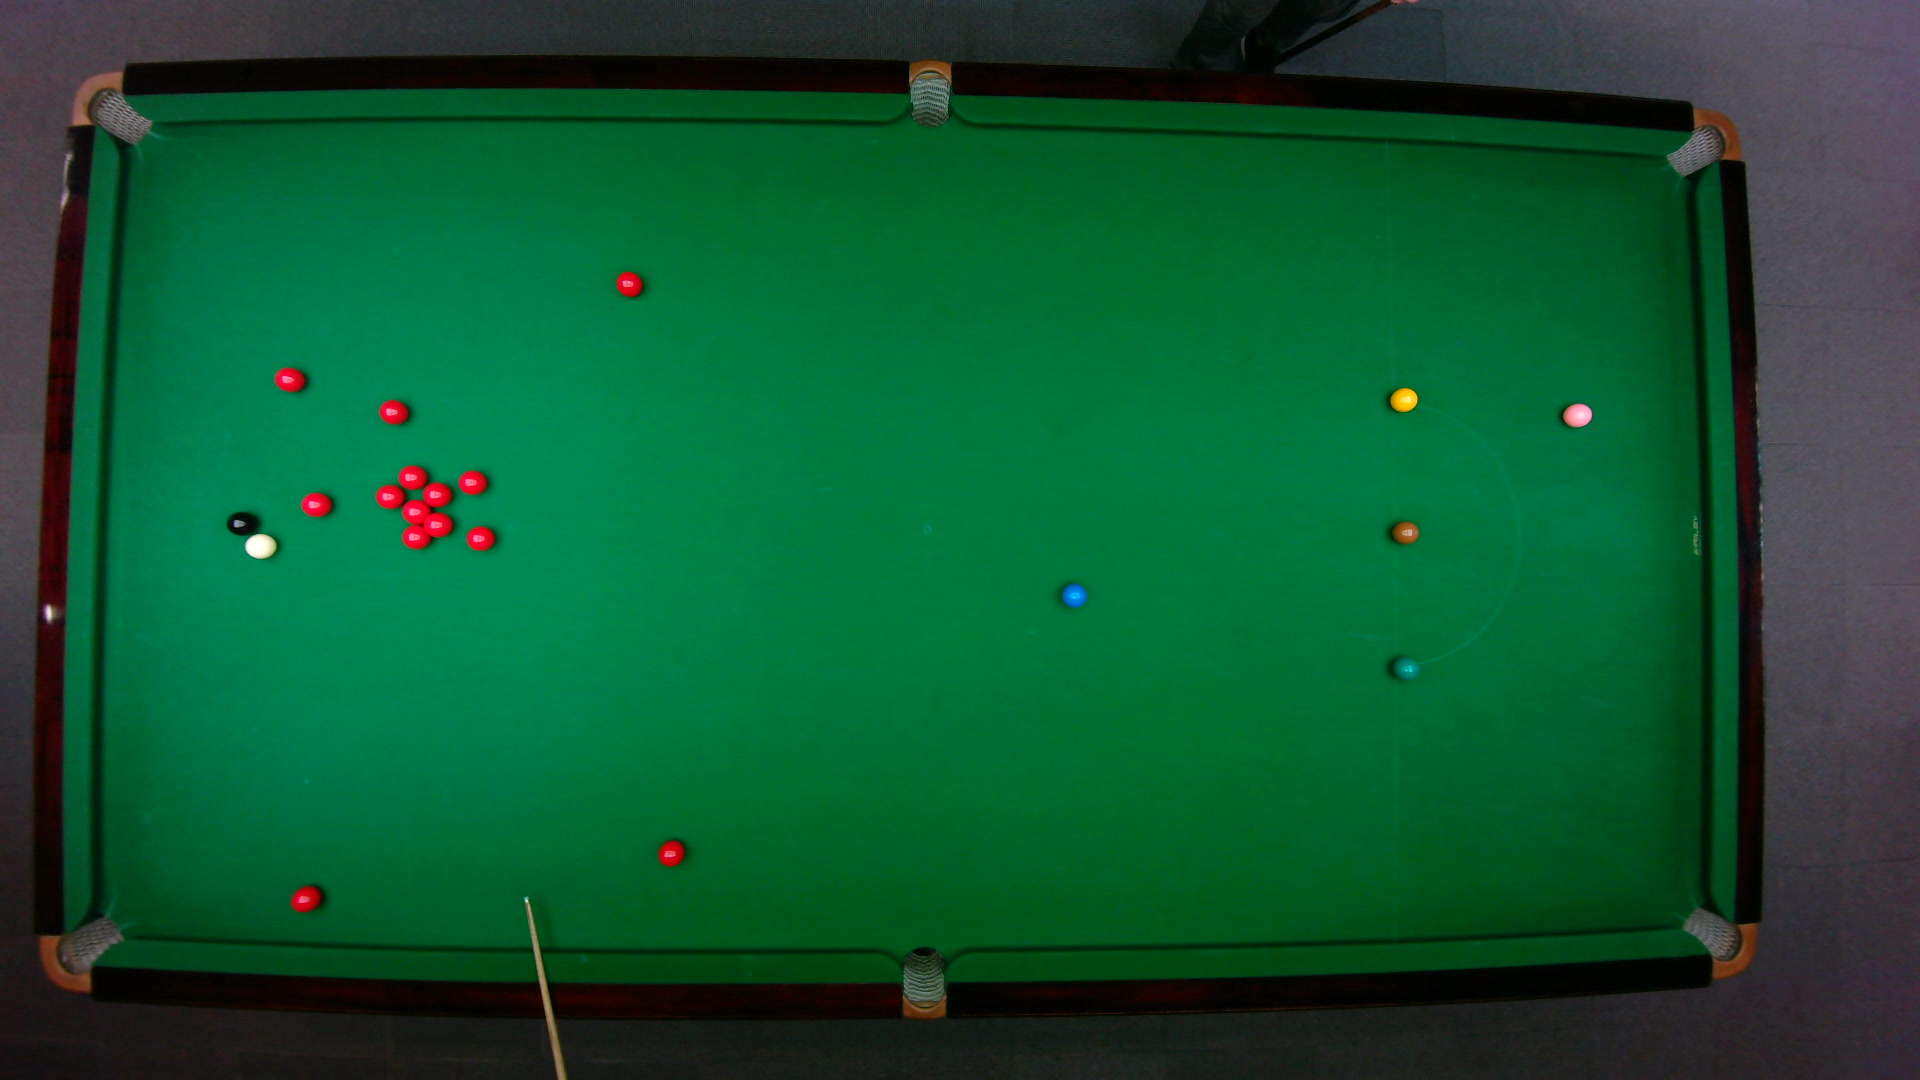bag: (37, 913, 125, 992), (69, 69, 153, 145), (1677, 905, 1756, 978), (1663, 107, 1741, 178), (901, 944, 944, 1021), (909, 57, 949, 128)
black: (224, 509, 256, 535)
blue: (1059, 582, 1088, 608)
brown: (1390, 520, 1419, 545)
cue: (524, 898, 567, 1079)
green: (1390, 654, 1419, 680)
pink: (1560, 401, 1593, 427)
red: (289, 884, 320, 913), (396, 463, 429, 491), (298, 491, 332, 517), (272, 365, 306, 392), (655, 837, 686, 866), (422, 510, 454, 538), (464, 524, 496, 551), (419, 480, 452, 506), (456, 468, 488, 495), (377, 398, 409, 425), (373, 483, 406, 508), (615, 269, 644, 297), (400, 524, 430, 550), (400, 498, 429, 524)
white: (243, 531, 278, 559)
yellow: (1387, 385, 1419, 413)
zone: (1389, 402, 1520, 667)
